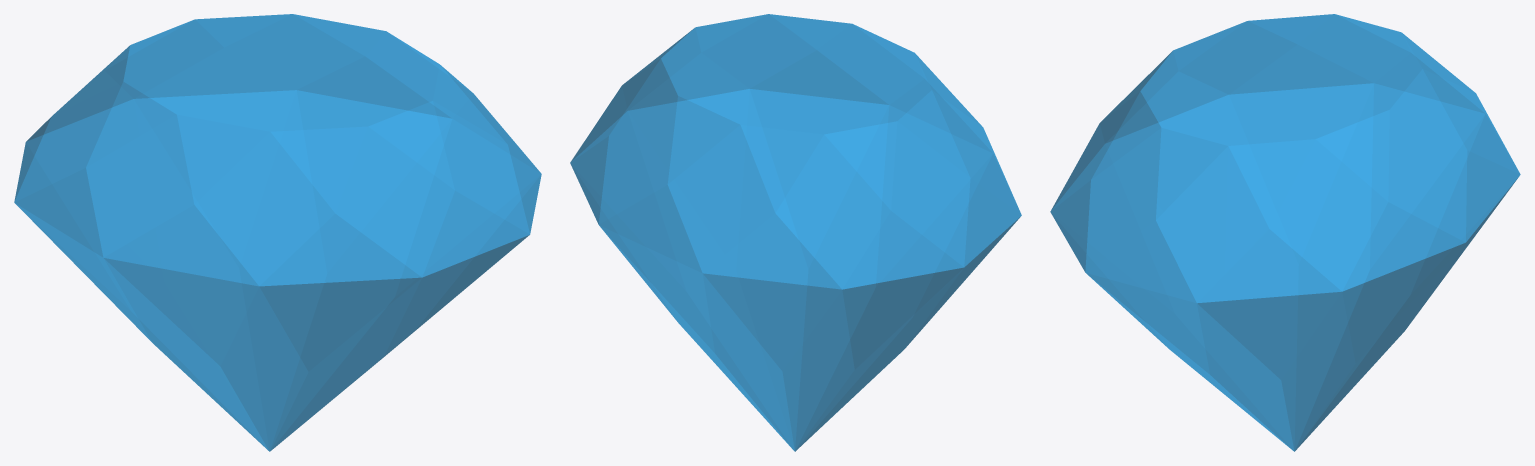
The model's file is gem3.fbx.
3 renders of one model, left to right at view 1: azimuth 30°, elevation 25°; view 2: azimuth 150°, elevation 25°; view 3: azimuth 270°, elevation 25°, orthographic. The views are drawn at different scales.
Parts seen in each view (by area): view 1: Gem; view 2: Gem; view 3: Gem.
Part boxes in pixels (x1,y1,x2,y2): Gem: (14, 14, 541, 451); Gem: (570, 14, 1021, 451); Gem: (1050, 14, 1520, 451).
Bounding box in the file's own units: 1.62 × 1.37 × 1.54.
